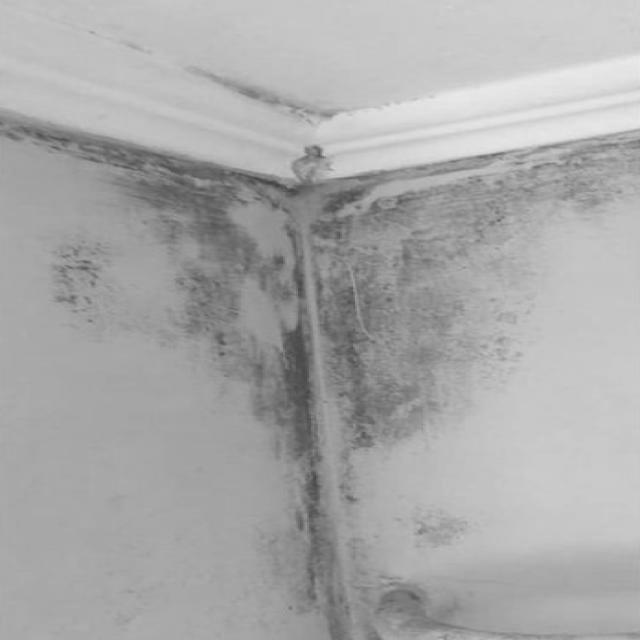stain marks: (0, 114, 638, 639), (84, 22, 396, 120)
